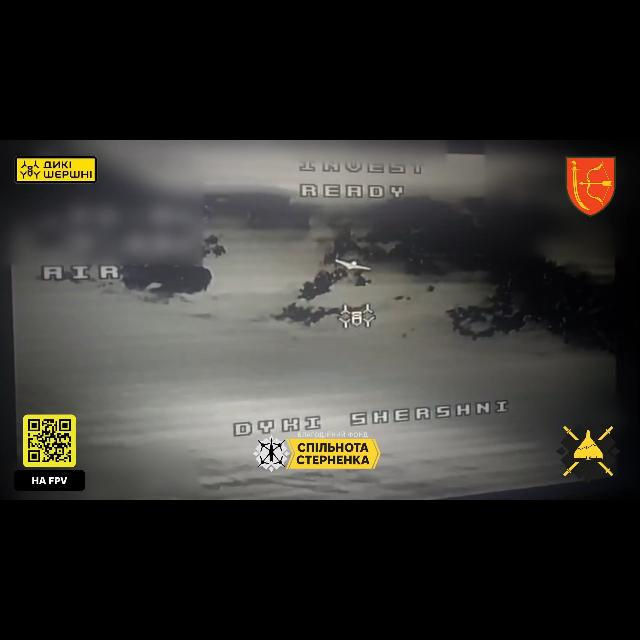Gerbera: (333, 258, 372, 272)
